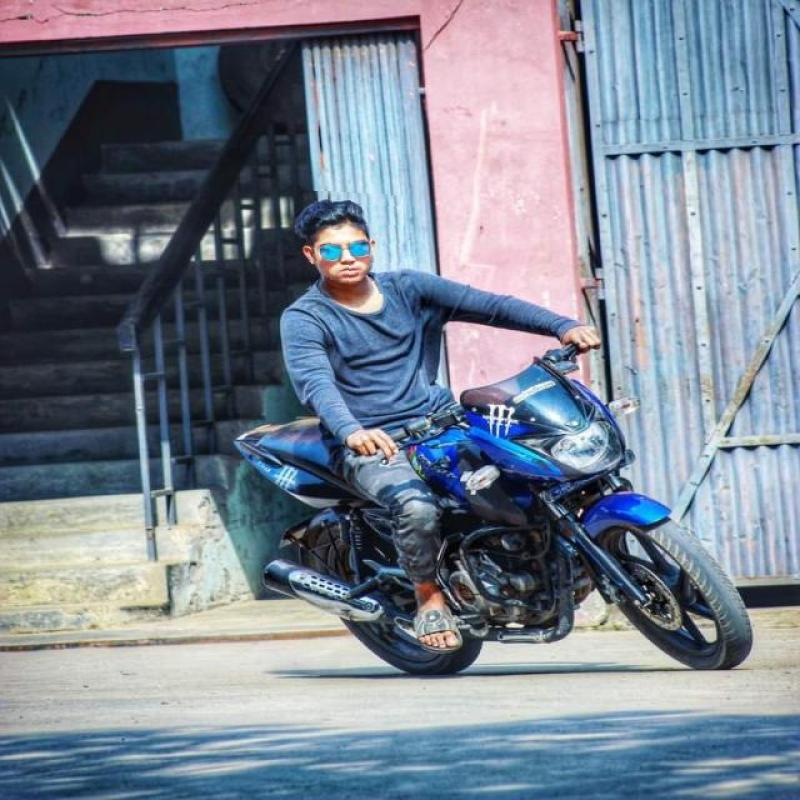nohelmet: (296, 191, 404, 294)
